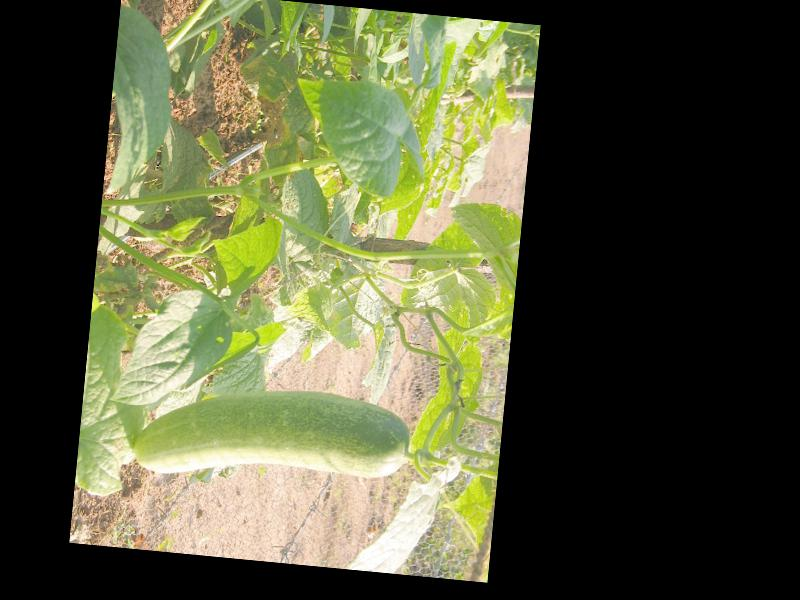Cucumber: (132, 375, 411, 495)
